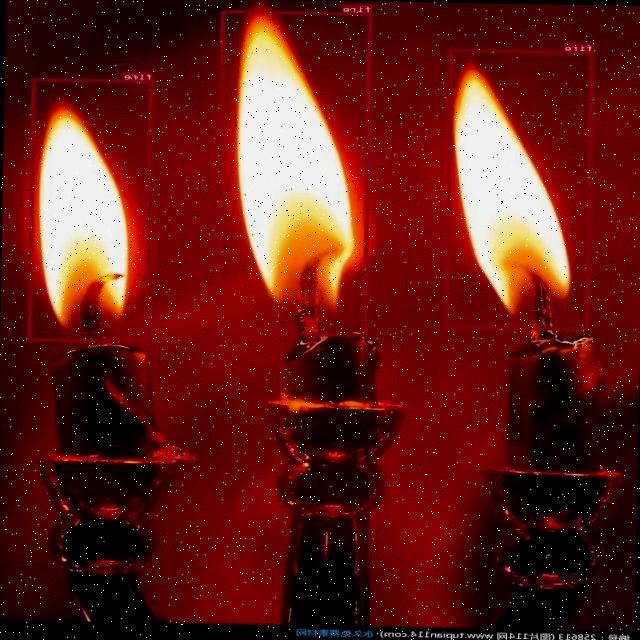fire: (215, 9, 372, 336), (445, 48, 594, 330), (28, 78, 154, 342)
